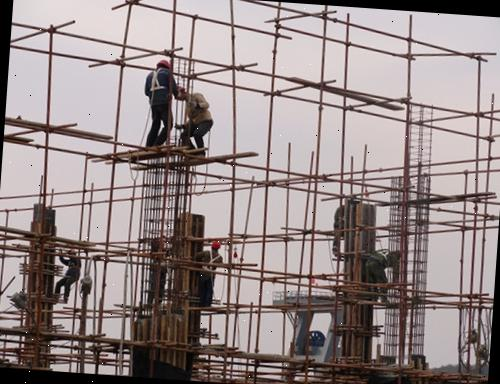helmet: (154, 58, 170, 69), (210, 240, 220, 248)
